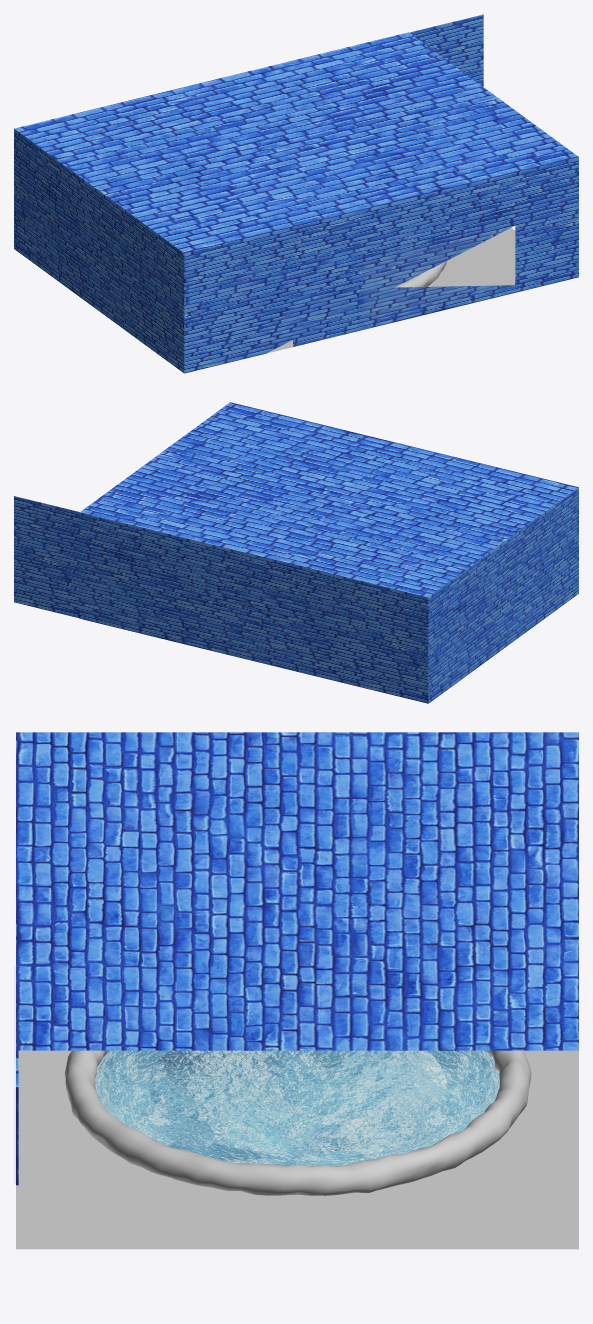
The model's file is OutdoorPenguinRoom.fbx.
3 views of the same model, one above another, from view 1: azimuth 30°, elevation 25°; view 2: azimuth 150°, elevation 25°; view 3: azimuth 270°, elevation 25° (orthographic). The views are drawn at different scales.
Visible parts, largest first — view 1: PenguinOutdoor wall, Torus.001; view 2: PenguinOutdoor wall; view 3: PenguinOutdoor wall, Sphere.001, Torus.001.
Part boxes in pixels (x1=…): PenguinOutdoor wall: x1=14, y1=14, x2=578, y2=373; Torus.001: x1=395, y1=261, x2=446, y2=287; PenguinOutdoor wall: x1=14, y1=402, x2=578, y2=703; PenguinOutdoor wall: x1=16, y1=732, x2=578, y2=1249; Sphere.001: x1=95, y1=1050, x2=499, y2=1165; Torus.001: x1=64, y1=1050, x2=531, y2=1195.
Size of the model in its own units: 61.25 by 15.4 by 38.65.
